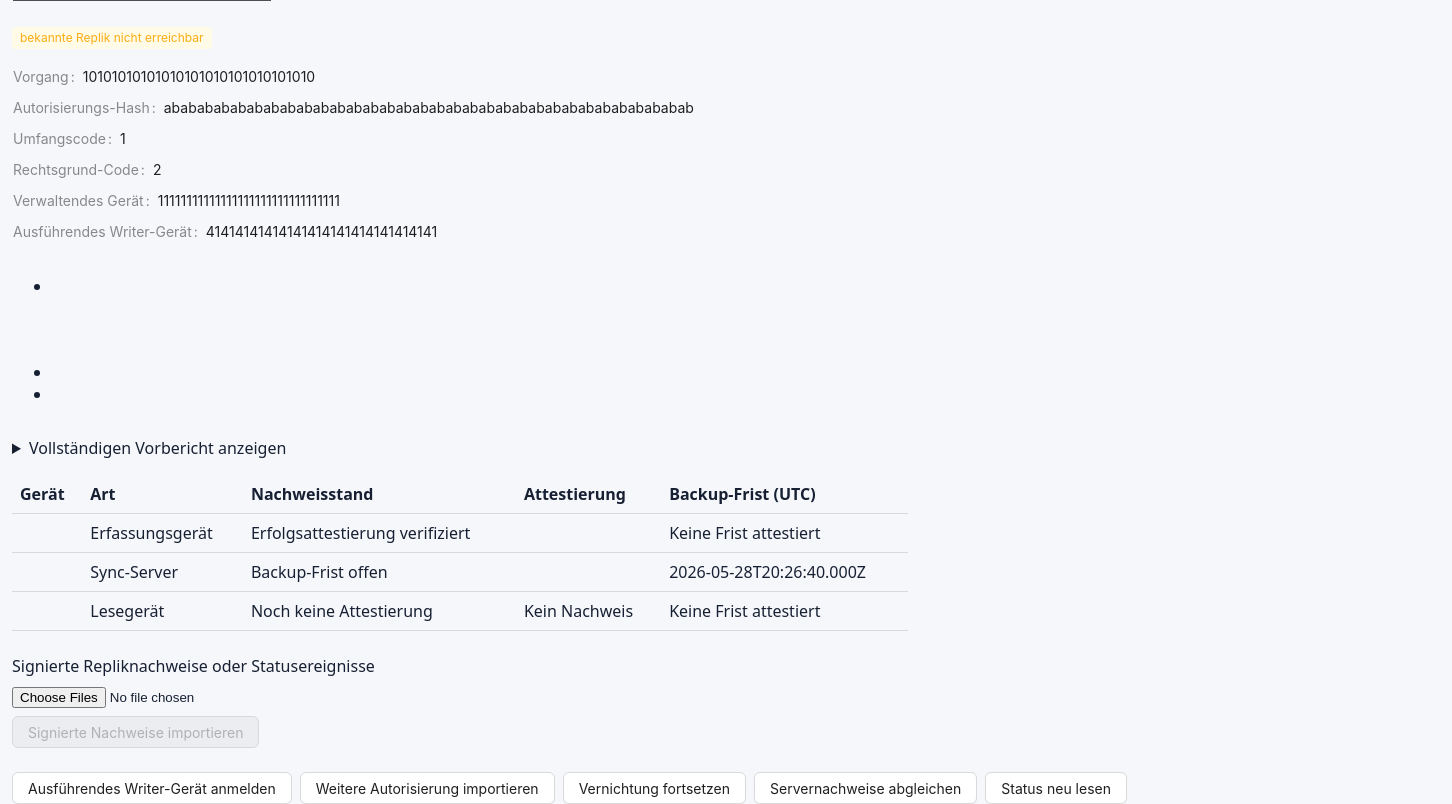
it: resuming an incomplete destruction (Ruling G2) › offers no new action: the existing resume chains the host retry and shows only the returned state
This screenshot has width=1452, height=804.
(page scrolled)
Expected: the message named "Vernichtungsstatus" reads "bekannte Replik nicht erreichbar", [20,30,204,45]
Click the button "Vernichtung fortsetzen". click: (654,788)
box: [563,772,746,803]
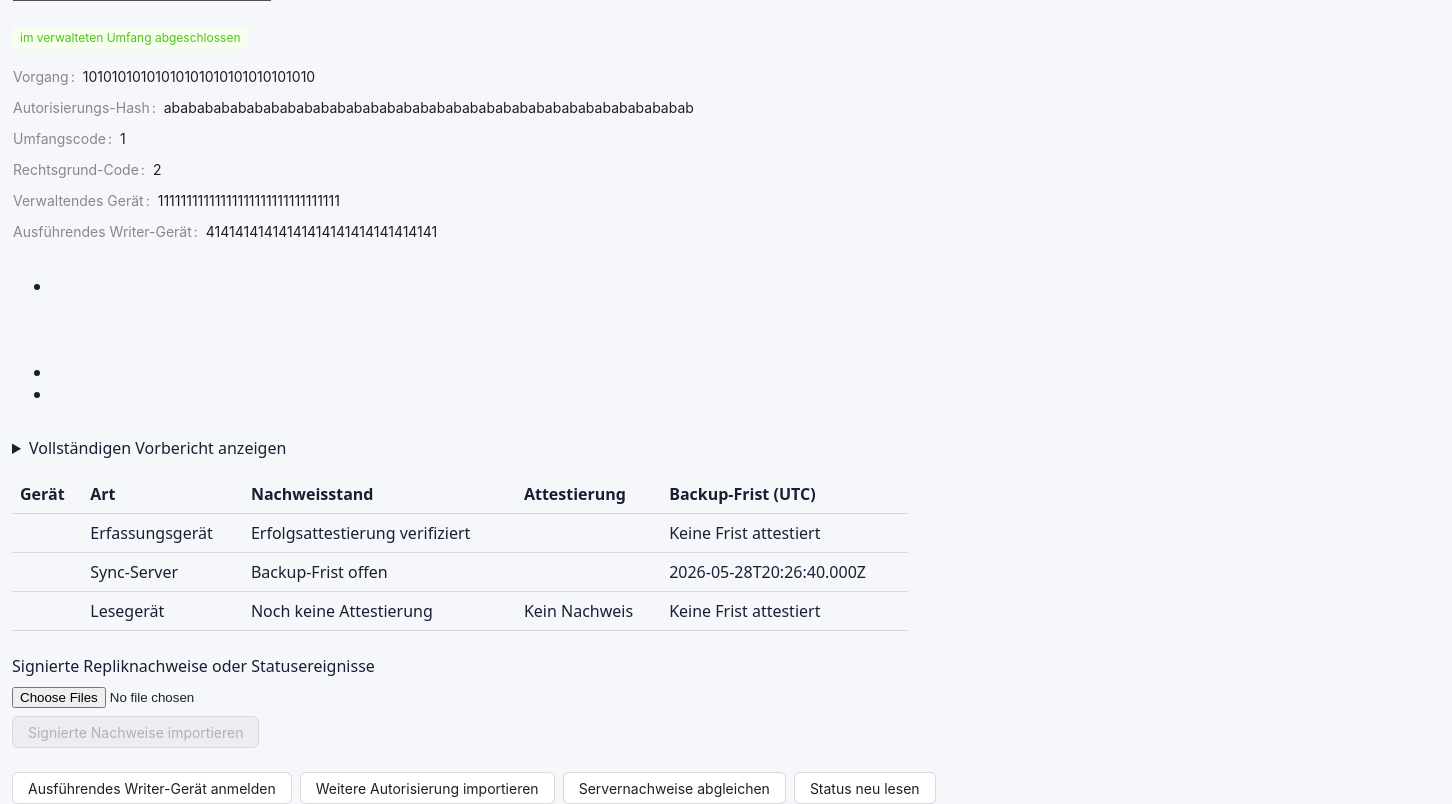
Expected: the message named "Vernichtungsstatus" reads "im verwalteten Umfang abgeschlossen", [20,30,240,45]
